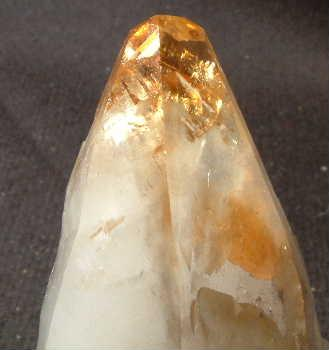calcite: (39, 96, 324, 350)
